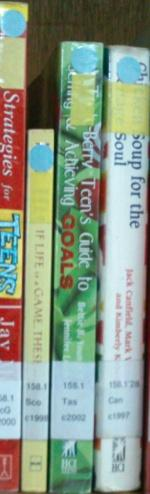call_number: (96, 362, 144, 440), (52, 363, 95, 439), (21, 361, 50, 441)
